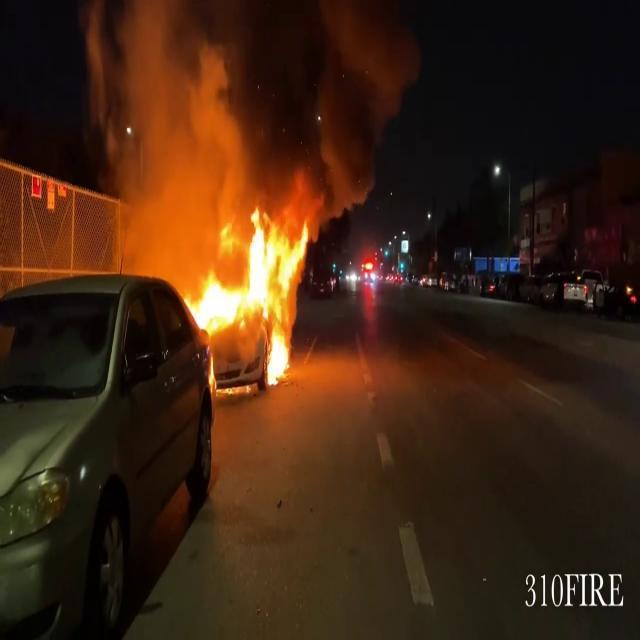Fire: (190, 206, 310, 382)
Smoke: (77, 0, 247, 262), (240, 0, 420, 214)
